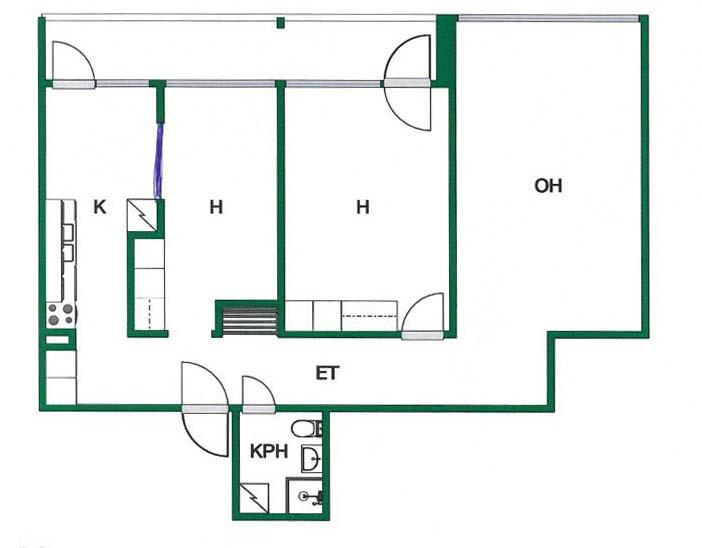bathroom: (240, 414, 322, 514)
door: (176, 355, 229, 415), (380, 78, 435, 134), (381, 32, 436, 88), (179, 403, 231, 460), (49, 37, 98, 94), (397, 291, 446, 344), (238, 373, 278, 417)
perimeter: (40, 13, 651, 524)
window: (455, 11, 644, 25), (160, 76, 281, 90), (281, 78, 383, 91), (93, 72, 155, 92)
